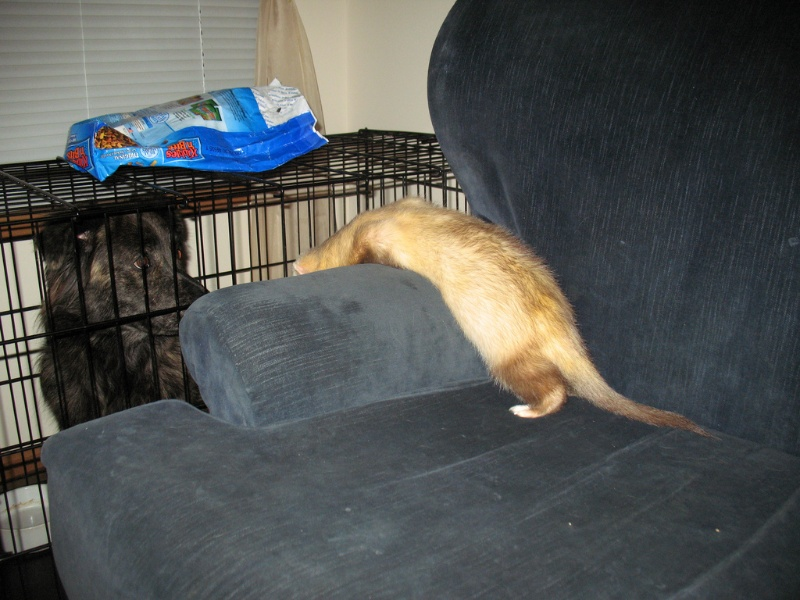dog: (30, 207, 226, 423)
minkish: (287, 195, 718, 451)
